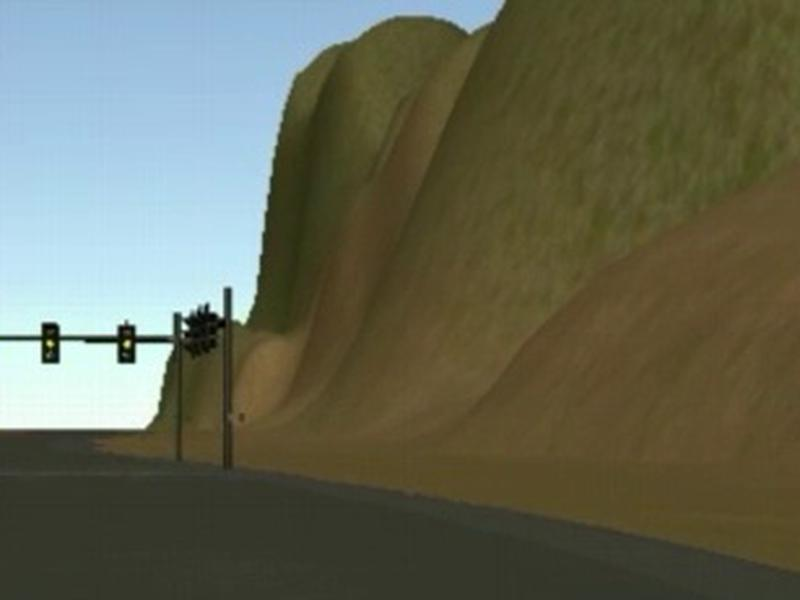Yellow: (116, 324, 138, 364), (41, 320, 59, 362)
